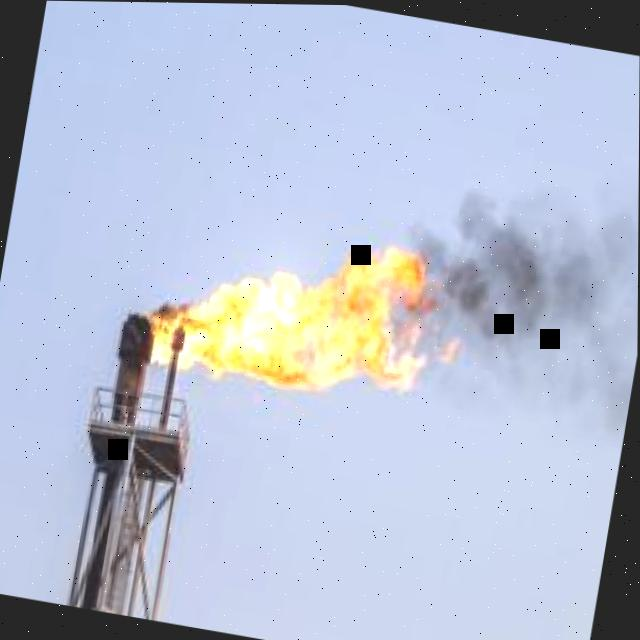fire: (134, 242, 434, 393)
smoke: (387, 170, 639, 440)
